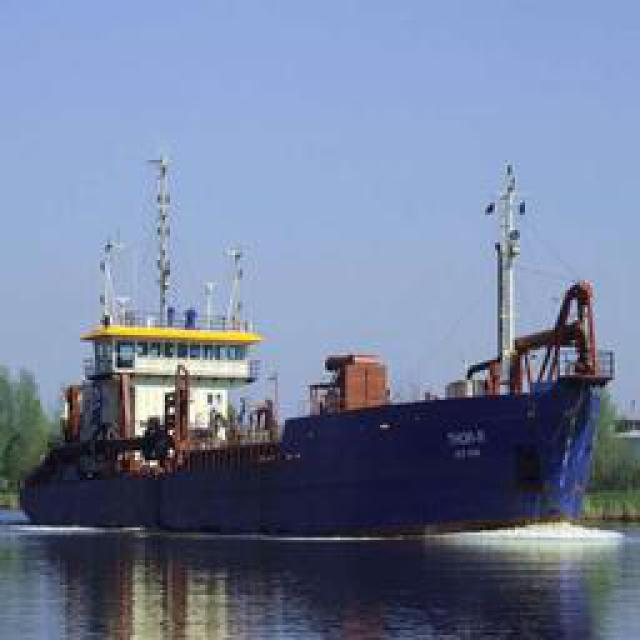Ship: (32, 145, 622, 543)
